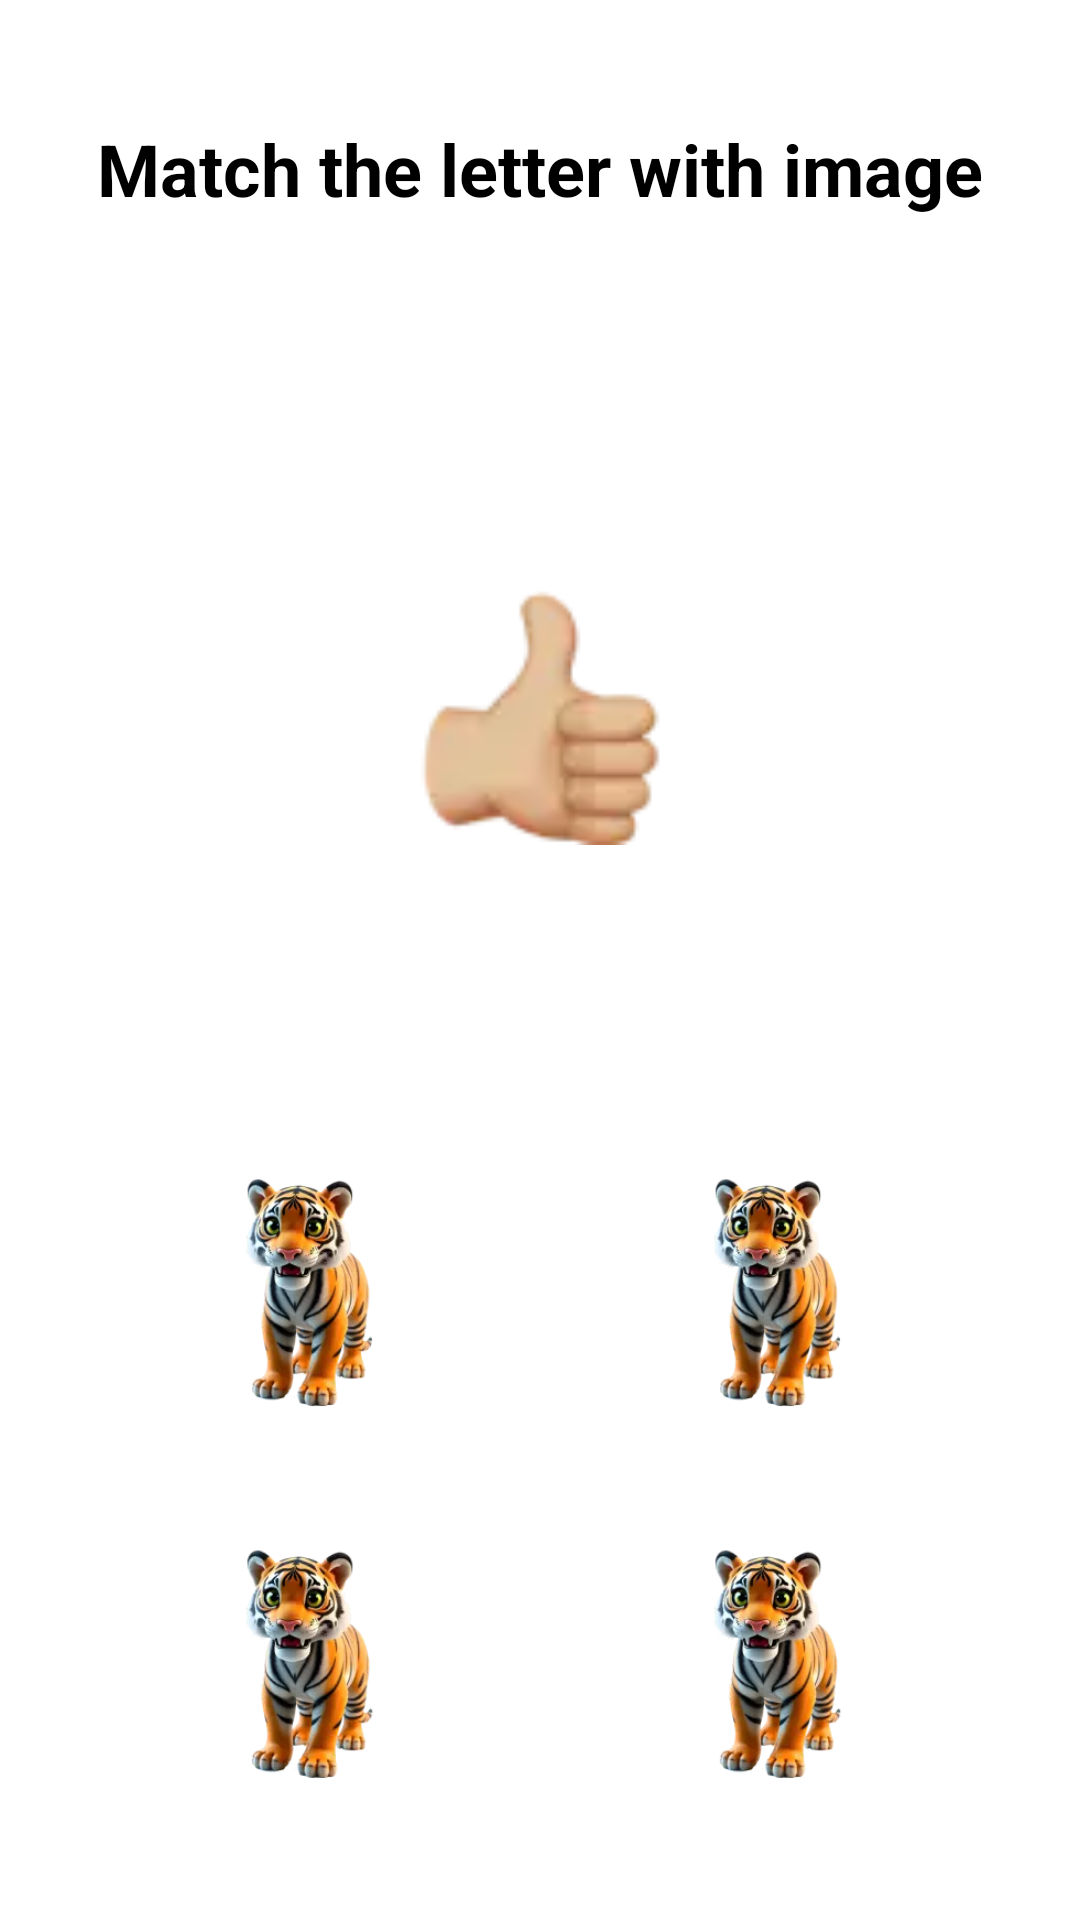

Locate icon controls on the screen. Image size 1080×1920, boxes as bbox=[x1, y1, x2, y2].
good: bbox=[424, 593, 659, 845]
object tiger: bbox=[247, 1179, 372, 1406], bbox=[715, 1179, 840, 1406], bbox=[247, 1550, 373, 1778], bbox=[715, 1550, 841, 1778]
